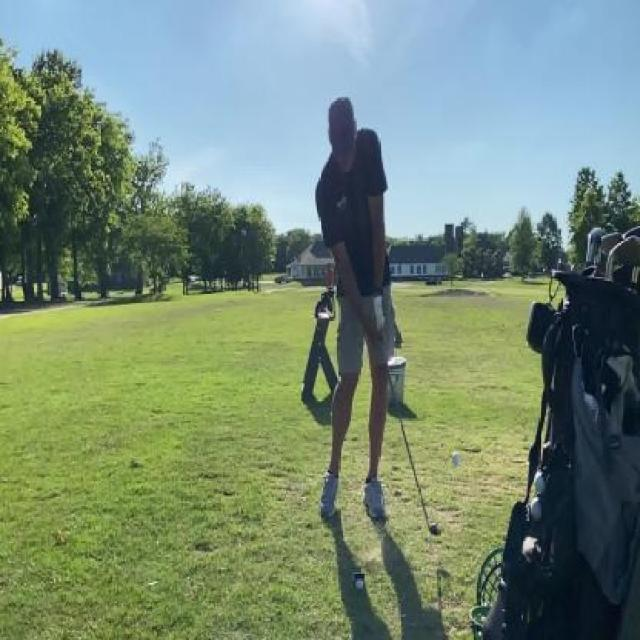club head: (426, 515, 442, 537)
